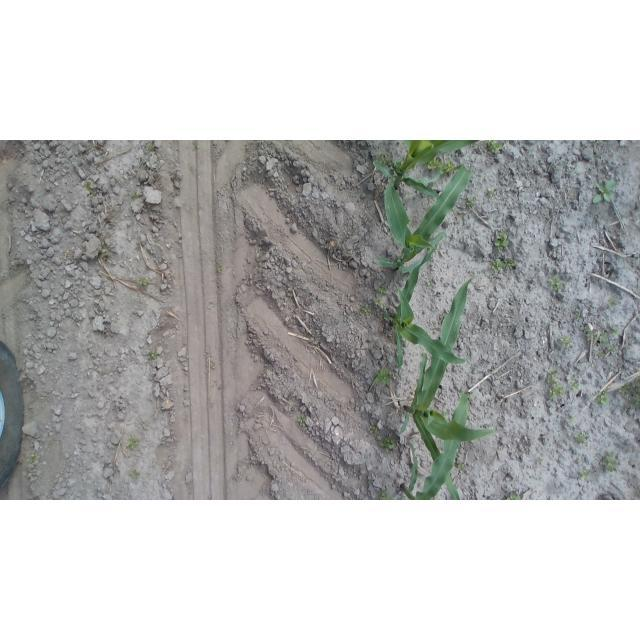Maize: (398, 275, 478, 500), (382, 245, 470, 381), (375, 164, 473, 275), (399, 393, 469, 500), (373, 141, 479, 200)
Weeds: (593, 328, 621, 357), (619, 375, 640, 410), (428, 156, 457, 177), (593, 180, 616, 205), (547, 368, 565, 398), (493, 231, 510, 253), (491, 259, 515, 274), (547, 276, 566, 293), (379, 436, 397, 453), (374, 367, 390, 385), (603, 453, 617, 472), (124, 436, 141, 450), (25, 451, 42, 465), (488, 140, 505, 154), (375, 152, 393, 165), (597, 390, 612, 405), (575, 430, 588, 444), (560, 335, 573, 348), (125, 470, 139, 482), (375, 282, 389, 294), (569, 380, 581, 393), (359, 304, 372, 316), (576, 469, 590, 480), (584, 326, 593, 341), (140, 275, 151, 287), (98, 242, 112, 251), (465, 195, 475, 207), (487, 188, 496, 201), (377, 492, 391, 500), (607, 297, 617, 308), (148, 349, 159, 359), (369, 425, 379, 435), (371, 297, 381, 307), (192, 141, 201, 152), (145, 144, 156, 153), (24, 469, 38, 476), (84, 181, 92, 193), (506, 494, 521, 500), (297, 416, 307, 425), (575, 312, 583, 323), (465, 392, 473, 401), (477, 140, 485, 148), (536, 457, 545, 463), (131, 191, 137, 200), (209, 301, 216, 308), (594, 149, 600, 157), (216, 267, 223, 273), (425, 279, 432, 285), (568, 416, 573, 424), (458, 464, 465, 469), (210, 364, 216, 369), (156, 163, 160, 167), (616, 142, 620, 146)
